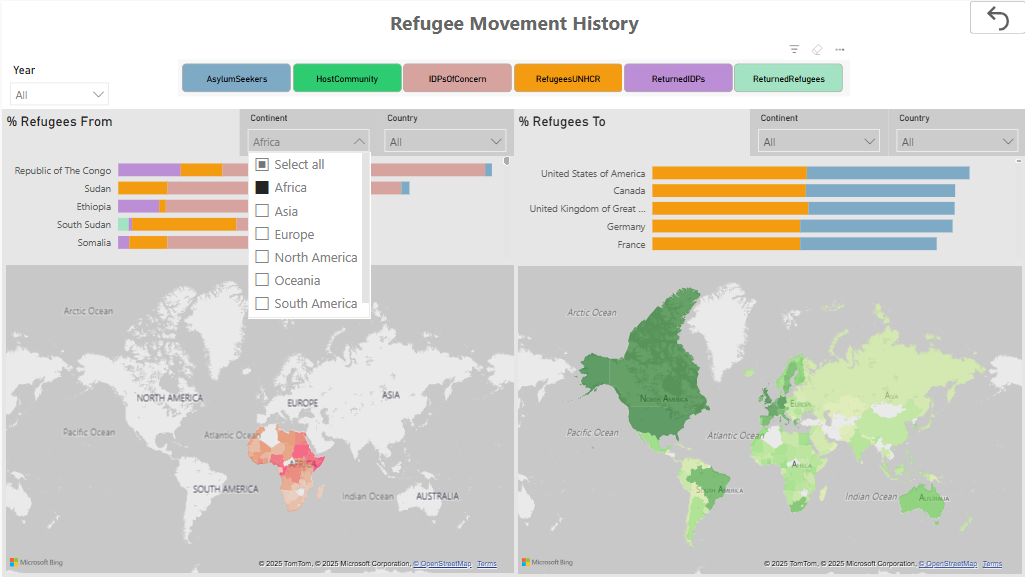

The page's visual inventory and layout, read from the dashboard file:
{"tool":"powerbi","page":{"name":"Test","canvas":[1280,720],"ordinal":2},"visuals":[{"type":"filledMap","title":"Refugee Fleeing To","fields":{"Category":["RefugeeFact.CountryAsylum"]},"box":[640,326.2,640,393.8],"z":0},{"type":"filledMap","title":"Refugee Fleeing To","fields":{"Category":["RefugeeFact.CountryAsylum"]},"box":[640,326.2,640,393.8],"z":1000},{"type":"filledMap","title":"Refugees Fleeing From","fields":{"Category":["RefugeeFact.CountryOrigin"]},"box":[0,325.5,648.2,394.5],"z":2000},{"type":"barChart","title":"      ","fields":{"Y":["CountNonNull(RefugeeFact.PopulationCount)"],"Series":["RefugeeFact.PopulationType"],"Category":["RefugeeFact.CountryOrigin"]},"box":[627,22,640,55],"z":3000},{"type":"barChart","title":"      ","fields":{"Y":["CountNonNull(RefugeeFact.PopulationCount)"],"Series":["RefugeeFact.PopulationType"],"Category":["RefugeeFact.CountryAsylum"]},"box":[640,129,640,160],"z":4000},{"type":"slicer","fields":{"Values":["RefugeeFact.ContinentOrigin"]},"box":[233.4,46.3,172.2,56.4],"z":5000},{"type":"group","id":"g1","title":"Group 2","box":[640,14,123,25],"z":6000},{"type":"slicer","fields":{"Values":["RefugeeFact.CountryOrigin"]},"box":[434.8,48.9,172.2,55.4],"z":7000},{"type":"textbox","box":[0,129.1,161,35],"z":8000},{"type":"barChart","fields":{"Category":["RefugeeFact.CountryOrigin"],"Y":["Bar.Filtered Refugee Population"],"Series":["PopulationTypeDim.PopulationType"]},"box":[0,119.1,640,204.3],"z":9000},{"type":"slicer","fields":{"Values":["RefugeeFact.ContinentAsylum"]},"box":[693.5,14,33.1,12],"z":10000,"group":"g1"},{"type":"textbox","box":[640,31.6,28,7.4],"z":12000,"group":"g1"},{"type":"slicer","fields":{"Values":["RefugeeFact.CountryAsylum"]},"box":[729.9,14.6,33.1,11.8],"z":13500,"group":"g1"}]}

Visuals, with their boxes in screenshot pixels (x1, y1, x2, y2), scaled from the page's 1280x720 canvas onto the 1025x577 screenshot:
"Refugee Fleeing To" filledMap: left=512, top=261, right=1024, bottom=576
"Refugee Fleeing To" filledMap: left=512, top=261, right=1024, bottom=576
"Refugees Fleeing From" filledMap: left=0, top=261, right=519, bottom=576
"      " barChart: left=502, top=18, right=1015, bottom=62
"      " barChart: left=512, top=103, right=1024, bottom=232
slicer - RefugeeFact.ContinentOrigin: left=187, top=37, right=325, bottom=82
"Group 2" group: left=512, top=11, right=611, bottom=31
slicer - RefugeeFact.CountryOrigin: left=348, top=39, right=486, bottom=84
textbox: left=0, top=103, right=129, bottom=132
barChart - RefugeeFact.CountryOrigin x Bar.Filtered Refugee Population: left=0, top=95, right=512, bottom=259
slicer - RefugeeFact.ContinentAsylum: left=555, top=11, right=582, bottom=21
textbox: left=512, top=25, right=535, bottom=31
slicer - RefugeeFact.CountryAsylum: left=584, top=12, right=611, bottom=21
